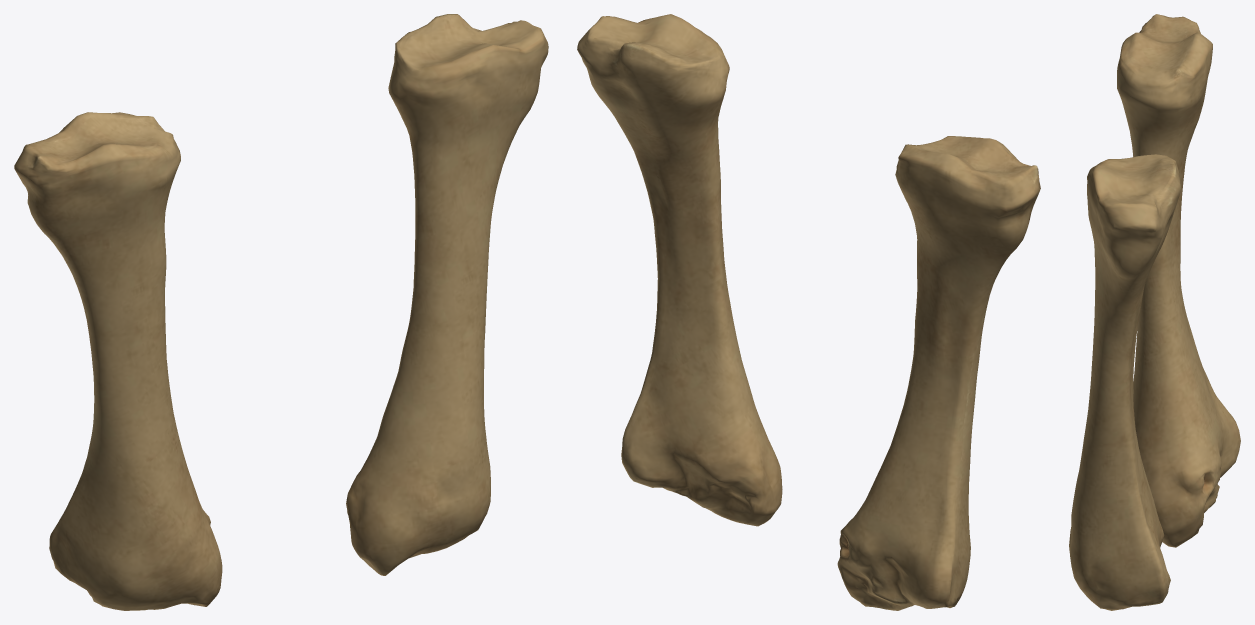
Rendered from radius.glb.
3 renders of one model, left to right at view 1: azimuth 30°, elevation 25°; view 2: azimuth 150°, elevation 25°; view 3: azimuth 270°, elevation 25°, orthographic. The views are drawn at different scales.
Visible parts, largest first — view 1: Radius; view 2: Radius; view 3: Radius.
Part boxes in pixels (x1,y1,x2,y2): Radius: (14, 14, 548, 610); Radius: (577, 14, 1040, 610); Radius: (1069, 14, 1240, 610).
Bounding box in the file's own units: 202 × 204 × 65.47.
1 material, 1 textured.
